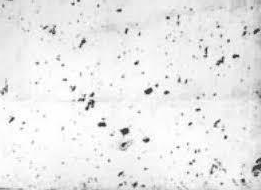Spalling: (1, 1, 261, 190)
